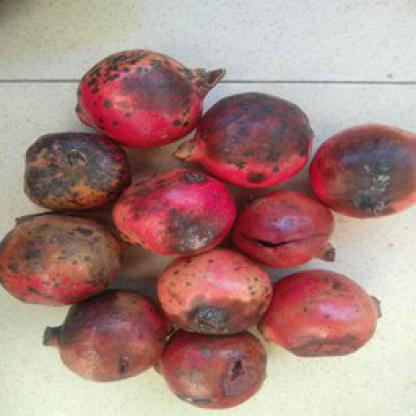pomegranate_rotten: (70, 47, 226, 148), (172, 91, 314, 187), (37, 289, 164, 384), (110, 166, 238, 256), (0, 213, 122, 305), (156, 247, 272, 338), (258, 270, 380, 356), (149, 326, 273, 410), (309, 122, 415, 219), (233, 185, 340, 268), (22, 130, 128, 211)
